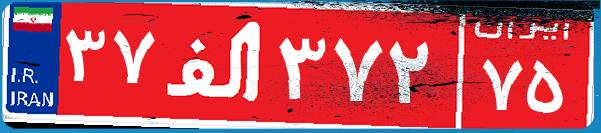2: (385, 28, 445, 110)
3: (273, 28, 330, 110), (57, 26, 110, 107)
5: (525, 38, 570, 115)
7: (330, 28, 385, 110), (475, 38, 525, 113), (110, 28, 158, 105)
الف: (158, 15, 273, 115)
